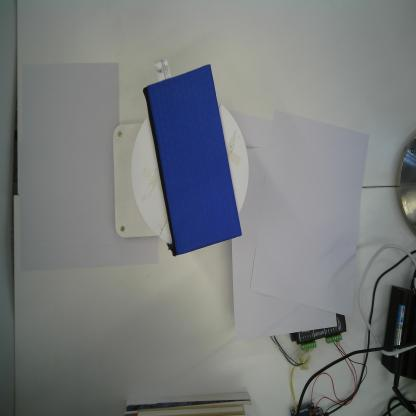Stationery: (141, 56, 244, 259)
